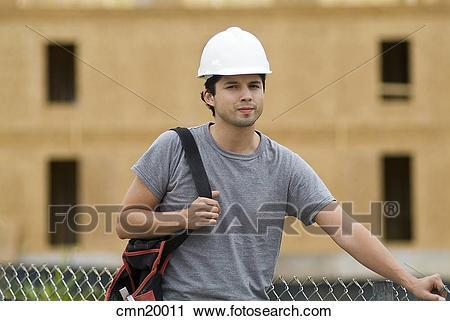helmet: (198, 27, 274, 80)
